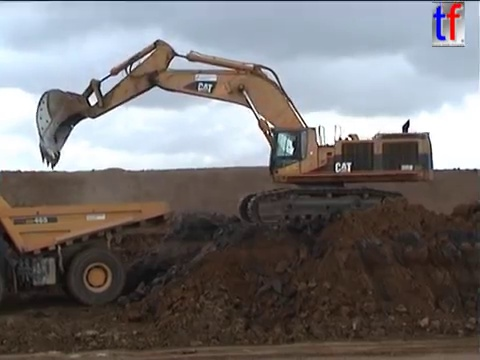excavator: (32, 36, 436, 233)
truck: (1, 193, 170, 307)
